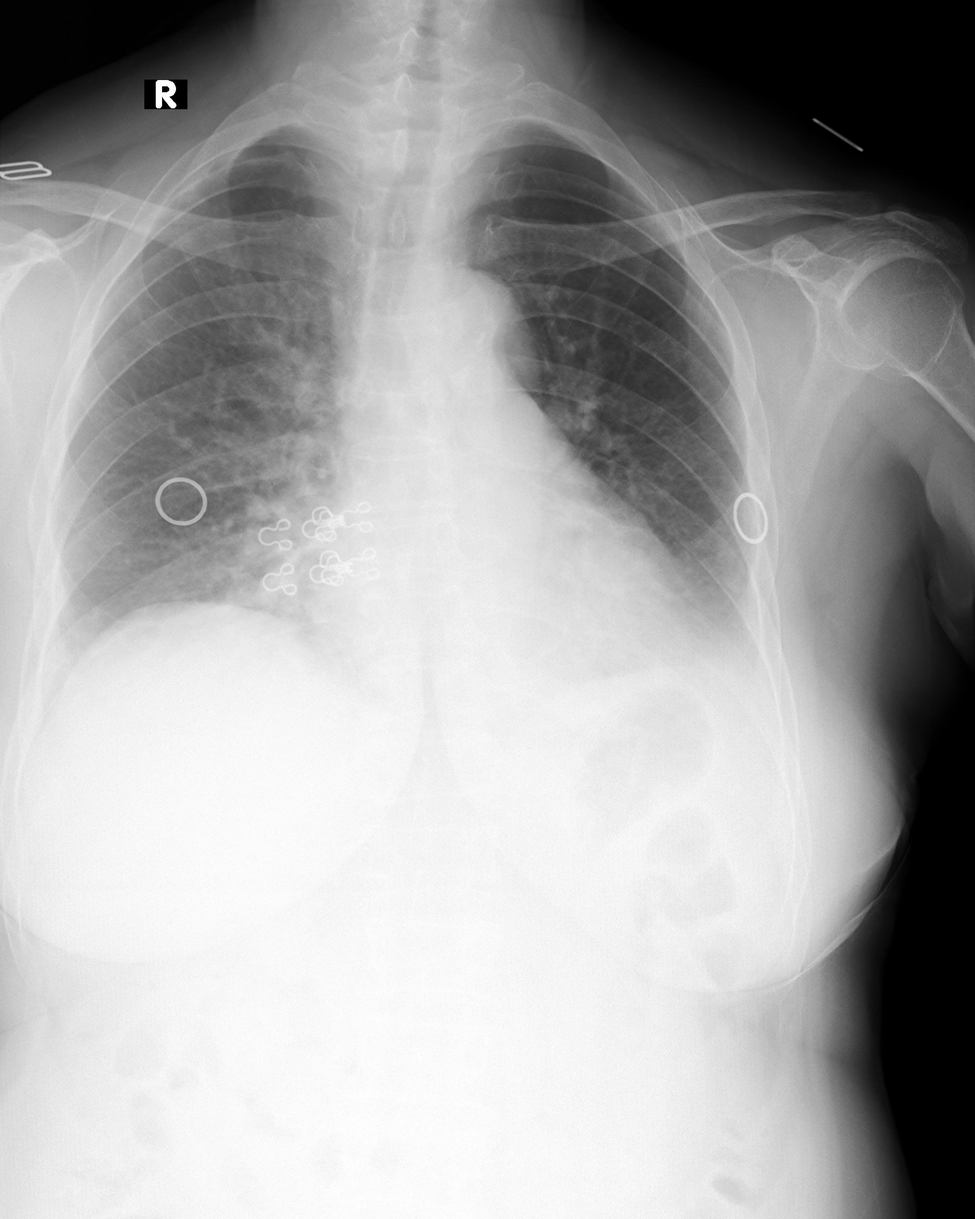Aortic enlargement: (401, 259, 551, 403)
Cardiomegaly: (296, 541, 722, 676)
